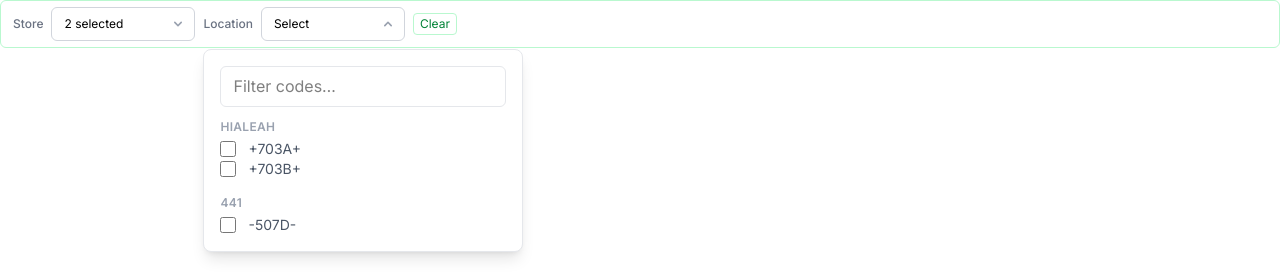
Test: the shelf list › narrows as you type, and hides a group with no match
Type "703" into the search field with placeholder "Filter codes…" at (363, 86), box [220, 66, 506, 107]
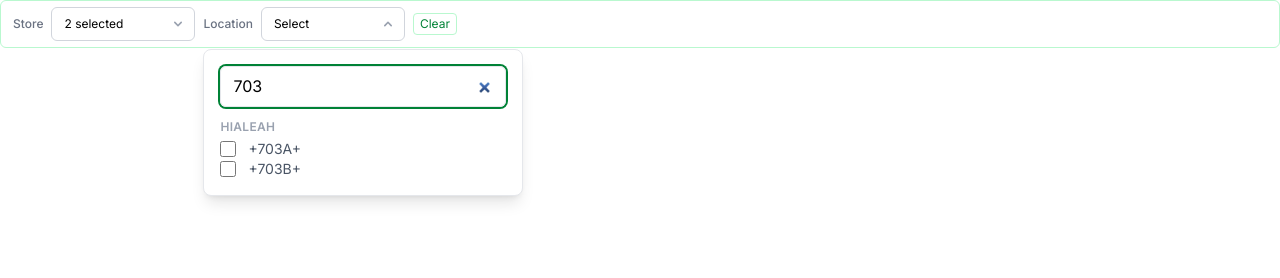
Expected: the checkbox labelled "+703A+" is shown, [220, 141, 236, 157]
Now the label labelled "-507D-" is gone
Now the text "441" is gone
